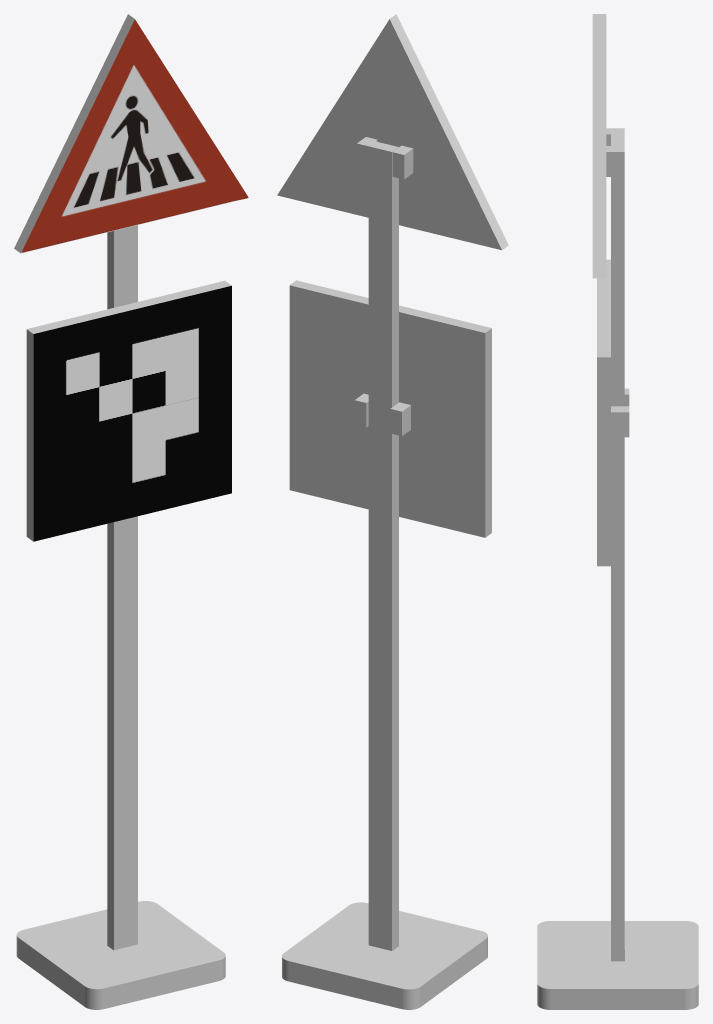
Rendered from peatones_aruco.dae.
3 views of the same model, side by side, from view 1: azimuth 30°, elevation 25°; view 2: azimuth 150°, elevation 25°; view 3: azimuth 270°, elevation 25° (orthographic). The views are drawn at different scales.
Parts seen in each view (by area): view 1: a430ae90-0b9b-4ef3-a77f-51a64082339b, a395a996-0d12-46b1-a656-739972954d98, a3ea1c81-308c-4132-a430-0ff86fdda9aa, ae1ca98d-f423-4f44-a662-2058d3df8239, a827b8f8-e04c-41c8-8687-ba3912c01b2e, ad7084ea-dcf2-4a57-a1b2-db0967f5883f, aeb82829-0b7d-48bc-b5bb-cba0e3c3317f; view 2: a86daef4-b164-47ee-9e5f-458f4cda3801, a3ea1c81-308c-4132-a430-0ff86fdda9aa, c2eaf655-541b-41c0-9feb-ba7644c25dbb, ae1ca98d-f423-4f44-a662-2058d3df8239, a827b8f8-e04c-41c8-8687-ba3912c01b2e, ad7084ea-dcf2-4a57-a1b2-db0967f5883f, aeb82829-0b7d-48bc-b5bb-cba0e3c3317f, a0894d3b-b737-477c-9b5a-a99183e22c2e, bb9e8824-ee38-4d26-8e8c-fb56c181e83b; view 3: ae1ca98d-f423-4f44-a662-2058d3df8239, a3ea1c81-308c-4132-a430-0ff86fdda9aa, abcd461a-2fe6-477a-80b8-bdb5c9311d81, dae8f49f-d6ad-4785-98aa-4112bae0e506, aeb82829-0b7d-48bc-b5bb-cba0e3c3317f, c5c0db46-28b1-4d22-844c-6db4e30cbebb, a1632ab8-7bf2-4f28-84c1-2ab5b8e59d44.
Part boxes in pixels (box(x1,y1,x2,y2)): a430ae90-0b9b-4ef3-a77f-51a64082339b: box(33, 285, 231, 541); a395a996-0d12-46b1-a656-739972954d98: box(22, 19, 248, 252); a3ea1c81-308c-4132-a430-0ff86fdda9aa: box(107, 225, 137, 950); ae1ca98d-f423-4f44-a662-2058d3df8239: box(16, 901, 225, 1009); a827b8f8-e04c-41c8-8687-ba3912c01b2e: box(14, 14, 134, 253); ad7084ea-dcf2-4a57-a1b2-db0967f5883f: box(26, 329, 33, 541); aeb82829-0b7d-48bc-b5bb-cba0e3c3317f: box(27, 280, 231, 333); a86daef4-b164-47ee-9e5f-458f4cda3801: box(289, 285, 485, 537); a3ea1c81-308c-4132-a430-0ff86fdda9aa: box(368, 141, 398, 950); c2eaf655-541b-41c0-9feb-ba7644c25dbb: box(277, 19, 501, 250); ae1ca98d-f423-4f44-a662-2058d3df8239: box(282, 902, 487, 1009); a827b8f8-e04c-41c8-8687-ba3912c01b2e: box(390, 14, 508, 249); ad7084ea-dcf2-4a57-a1b2-db0967f5883f: box(485, 328, 491, 537); aeb82829-0b7d-48bc-b5bb-cba0e3c3317f: box(290, 280, 491, 332); a0894d3b-b737-477c-9b5a-a99183e22c2e: box(392, 145, 413, 179); bb9e8824-ee38-4d26-8e8c-fb56c181e83b: box(390, 402, 410, 436); ae1ca98d-f423-4f44-a662-2058d3df8239: box(537, 921, 698, 1009); a3ea1c81-308c-4132-a430-0ff86fdda9aa: box(611, 134, 624, 961); abcd461a-2fe6-477a-80b8-bdb5c9311d81: box(592, 14, 606, 278); dae8f49f-d6ad-4785-98aa-4112bae0e506: box(597, 357, 610, 566); aeb82829-0b7d-48bc-b5bb-cba0e3c3317f: box(597, 259, 610, 357); c5c0db46-28b1-4d22-844c-6db4e30cbebb: box(611, 406, 629, 437); a1632ab8-7bf2-4f28-84c1-2ab5b8e59d44: box(606, 146, 624, 176).
Size of the model in its own units: 0.0575 by 0.035 by 0.2302.
Materials: 2 (2 with a texture image).
